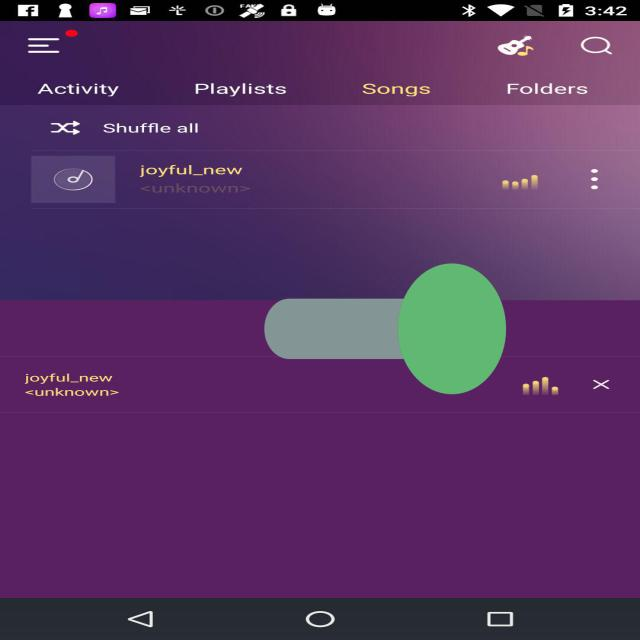social proof: (264, 183, 506, 475)
